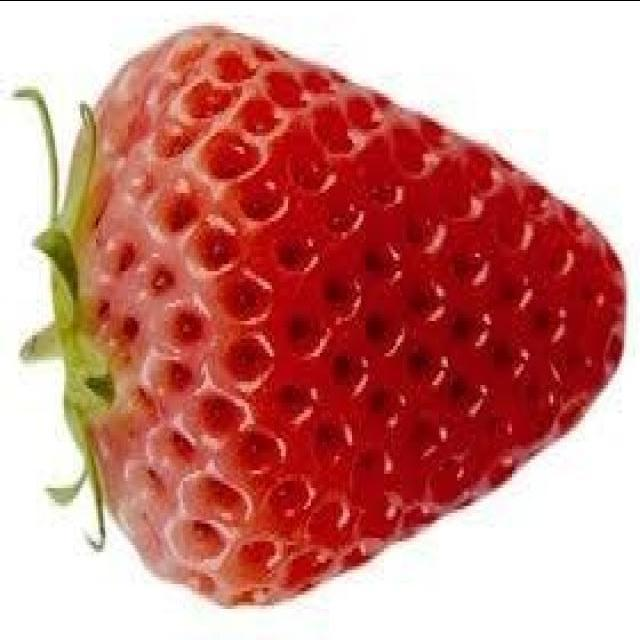ripe: (72, 24, 630, 604)
